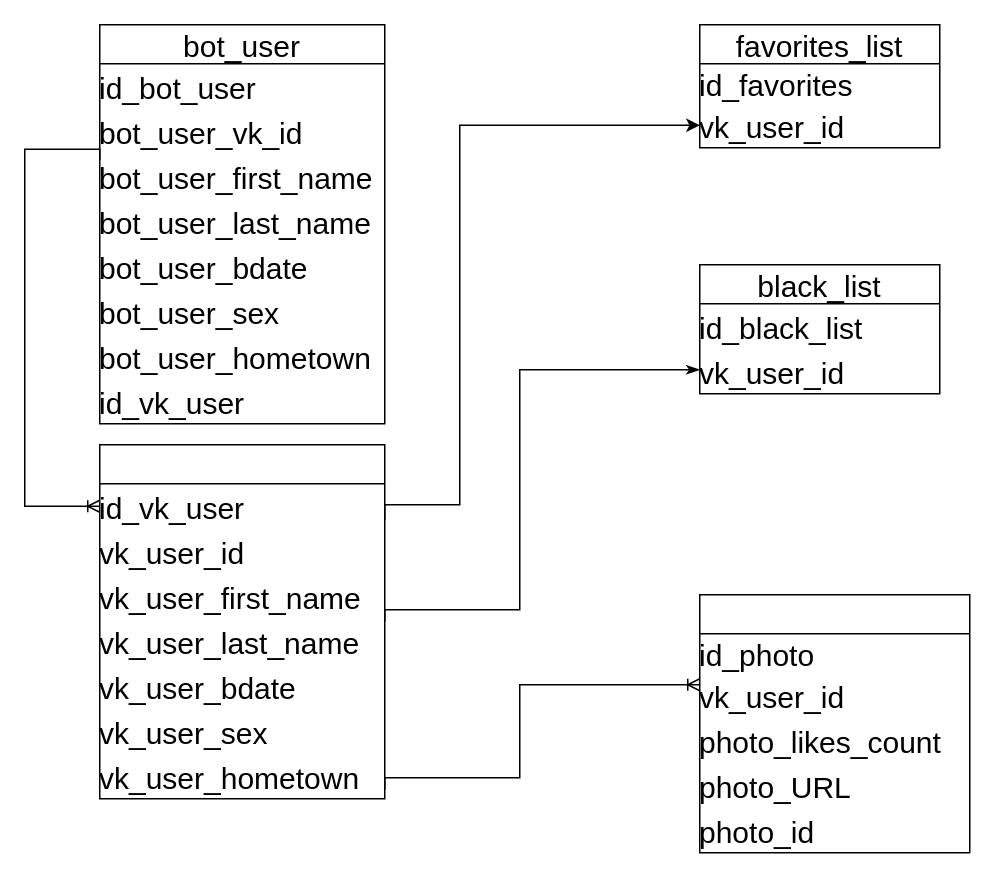
Image size: 995x878. Some labels were removed from this diagram. The shapes that lost their labels are listed below. From the top down, each one's box as (x1, y1, x2, y2) in pixels, then its label:
(98, 443, 385, 799): vk_user_match
(698, 593, 970, 853): vk_user_photo
